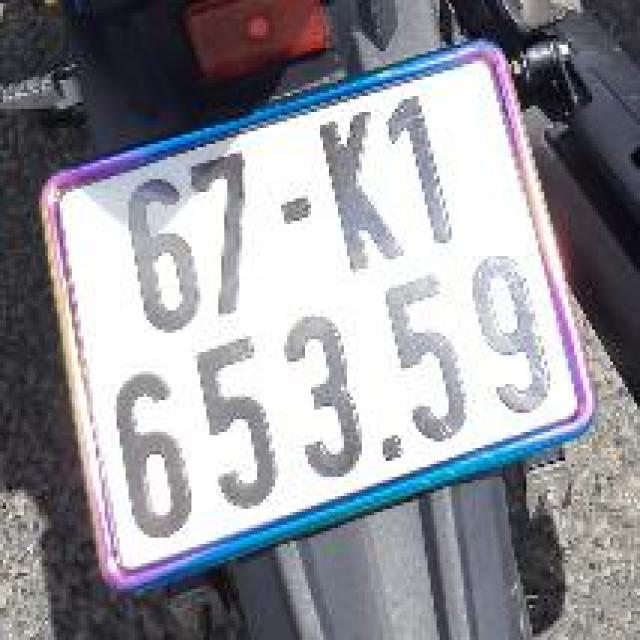1: (374, 81, 476, 265)
3: (274, 302, 382, 502)
5: (177, 322, 295, 536), (368, 264, 484, 456)
6: (95, 361, 209, 560), (107, 167, 211, 348)
7: (175, 136, 282, 333)
9: (453, 235, 572, 434)
K: (306, 101, 414, 285)
